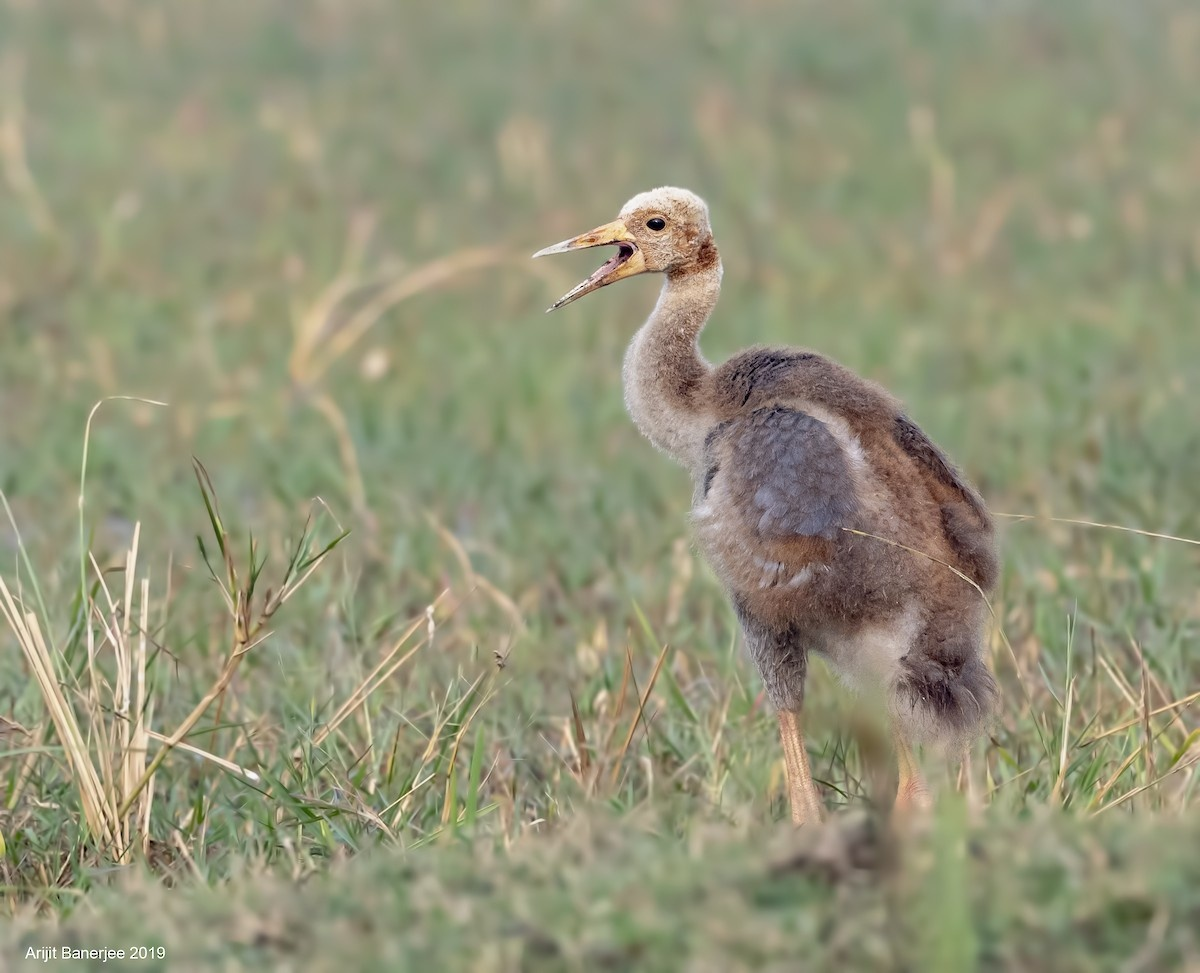crane: (523, 172, 1058, 883)
